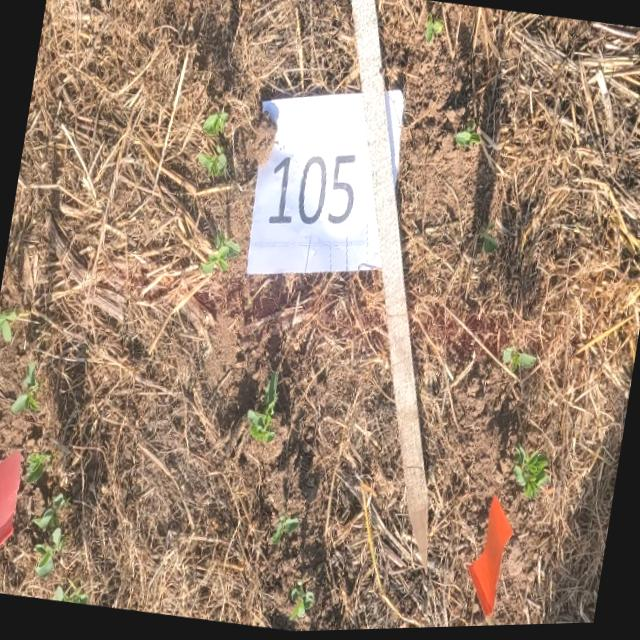soy_plant: (34, 494, 68, 576), (247, 373, 278, 444), (514, 448, 548, 501), (201, 235, 240, 275), (12, 362, 40, 414), (289, 582, 315, 622), (197, 147, 227, 179), (502, 351, 537, 375), (25, 452, 51, 484), (271, 518, 299, 545), (50, 586, 88, 604), (203, 114, 229, 137), (424, 17, 444, 46), (0, 312, 19, 342), (479, 227, 498, 257), (454, 131, 481, 152)
